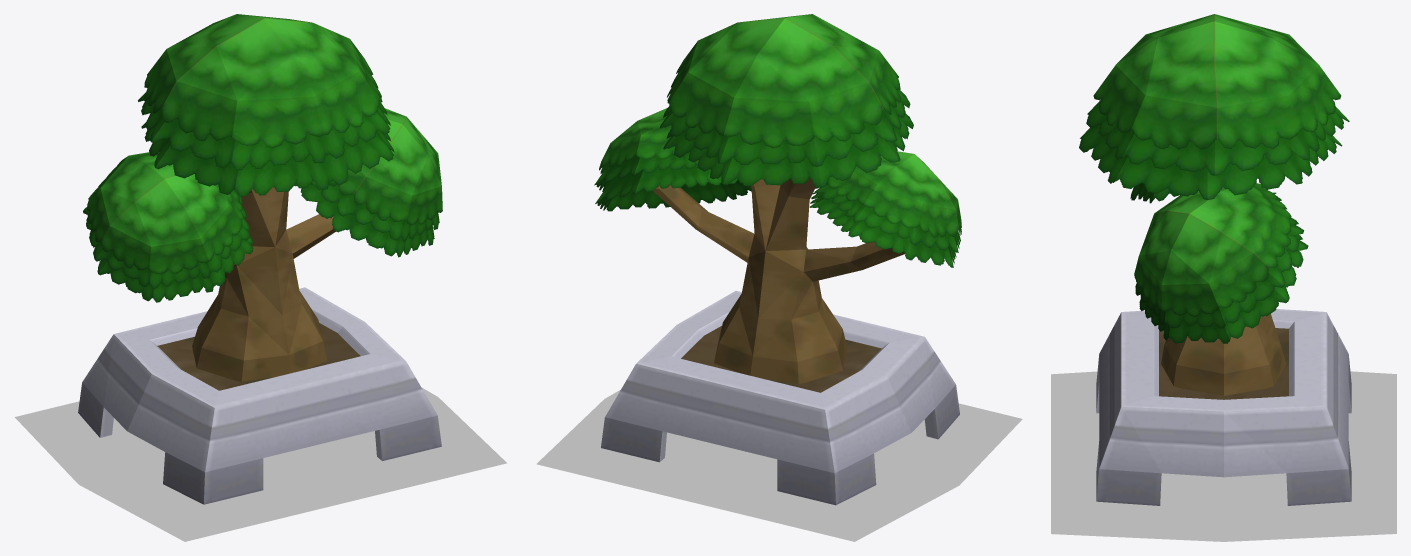
Rendered from rippanaueki.obj.
3 renders of one model, left to right at view 1: azimuth 30°, elevation 25°; view 2: azimuth 150°, elevation 25°; view 3: azimuth 270°, elevation 25°, orthographic. The views are drawn at different scales.
Parts seen in each view (by area): view 1: polySurface3_polySurface3_rippanaueki.png, polySurface3_polySurface3_shadow1.png; view 2: polySurface3_polySurface3_rippanaueki.png, polySurface3_polySurface3_shadow1.png; view 3: polySurface3_polySurface3_rippanaueki.png, polySurface3_polySurface3_shadow1.png.
Part boxes in pixels (left/top/right/bottom): polySurface3_polySurface3_rippanaueki.png: left=78, top=14, right=442, bottom=504; polySurface3_polySurface3_shadow1.png: left=14, top=388, right=506, bottom=541; polySurface3_polySurface3_rippanaueki.png: left=594, top=14, right=961, bottom=505; polySurface3_polySurface3_shadow1.png: left=536, top=389, right=1022, bottom=541; polySurface3_polySurface3_rippanaueki.png: left=1079, top=14, right=1351, bottom=505; polySurface3_polySurface3_shadow1.png: left=1051, top=371, right=1396, bottom=541.
Bounding box in the file's own units: 3.4 × 3.85 × 2.79.
